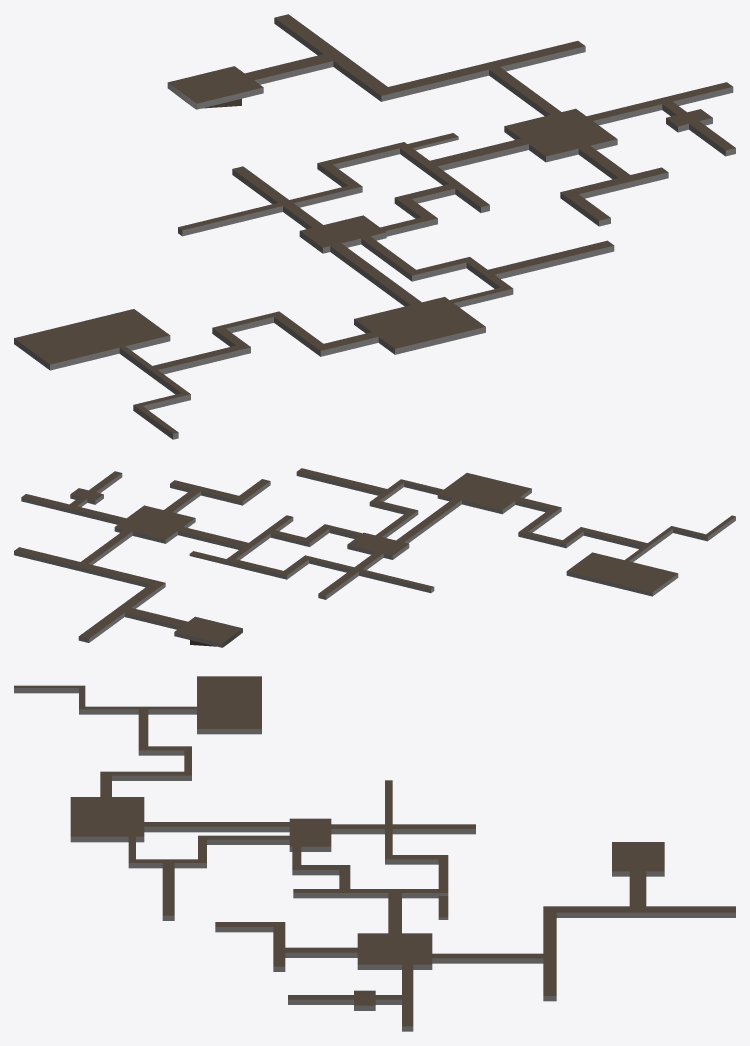
The model's file is Lv2_Map.fbx.
3 views of the same model, one above another, from view 1: azimuth 30°, elevation 25°; view 2: azimuth 150°, elevation 25°; view 3: azimuth 270°, elevation 25° (orthographic). The views are drawn at different scales.
Visible parts, largest first — view 1: pCube1; view 2: pCube1; view 3: pCube1.
Part boxes in pixels (x1,y1,x2,y2): pCube1: [14, 14, 735, 439]; pCube1: [14, 468, 735, 647]; pCube1: [14, 676, 735, 1031].
Size of the model in its own units: 140 by 3.78 by 122.
